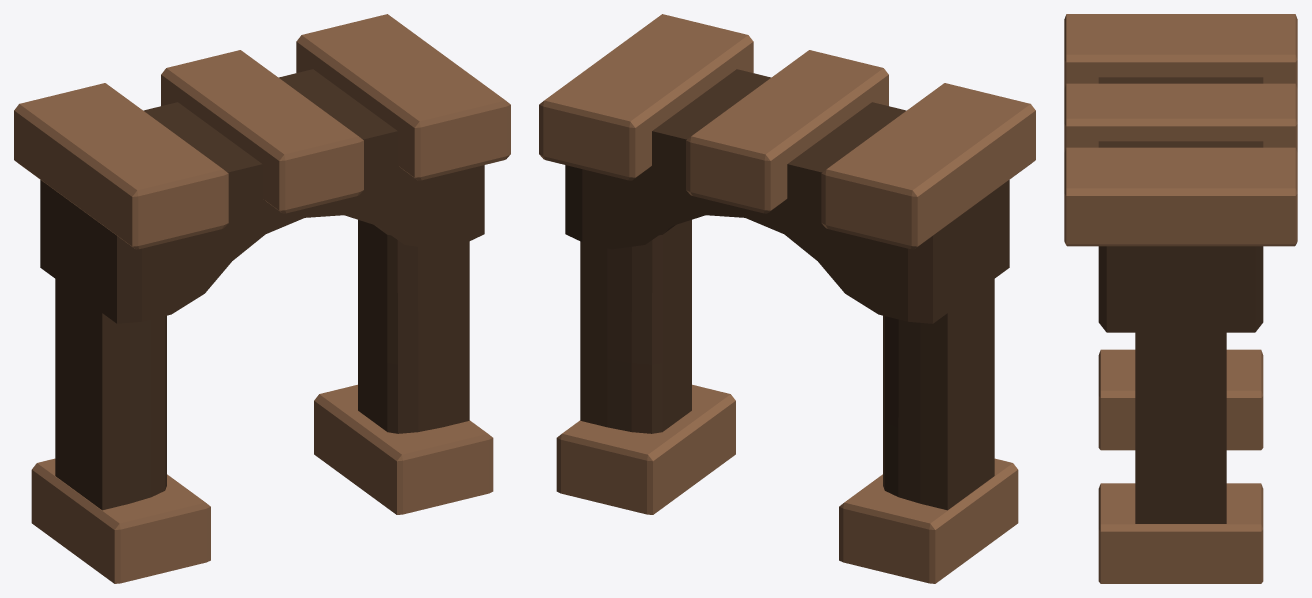
File: columna 3.fbx
The picture shows the model from 3 angles, left to right: view 1: azimuth 30°, elevation 25°; view 2: azimuth 150°, elevation 25°; view 3: azimuth 270°, elevation 25°; orthographic projection. The views are drawn at different scales.
Parts seen in each view (by area): view 1: Gate A; view 2: Gate A; view 3: Gate A.
Boxes of the visible parts, bbox=[...] form: Gate A: bbox=[14, 14, 510, 583]; Gate A: bbox=[539, 14, 1035, 583]; Gate A: bbox=[1064, 14, 1297, 583].
Bounding box in the file's own units: 618 × 632 × 340.
